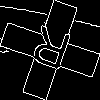R: (25, 25, 74, 80)
